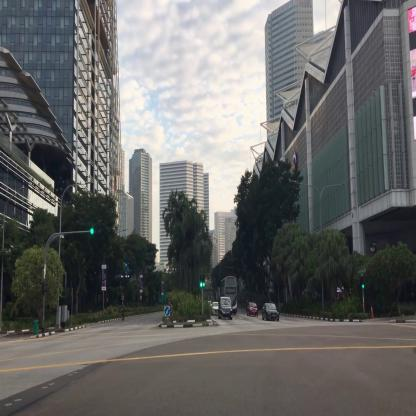green_traffic_light: (90, 228, 100, 234), (200, 274, 202, 287)
